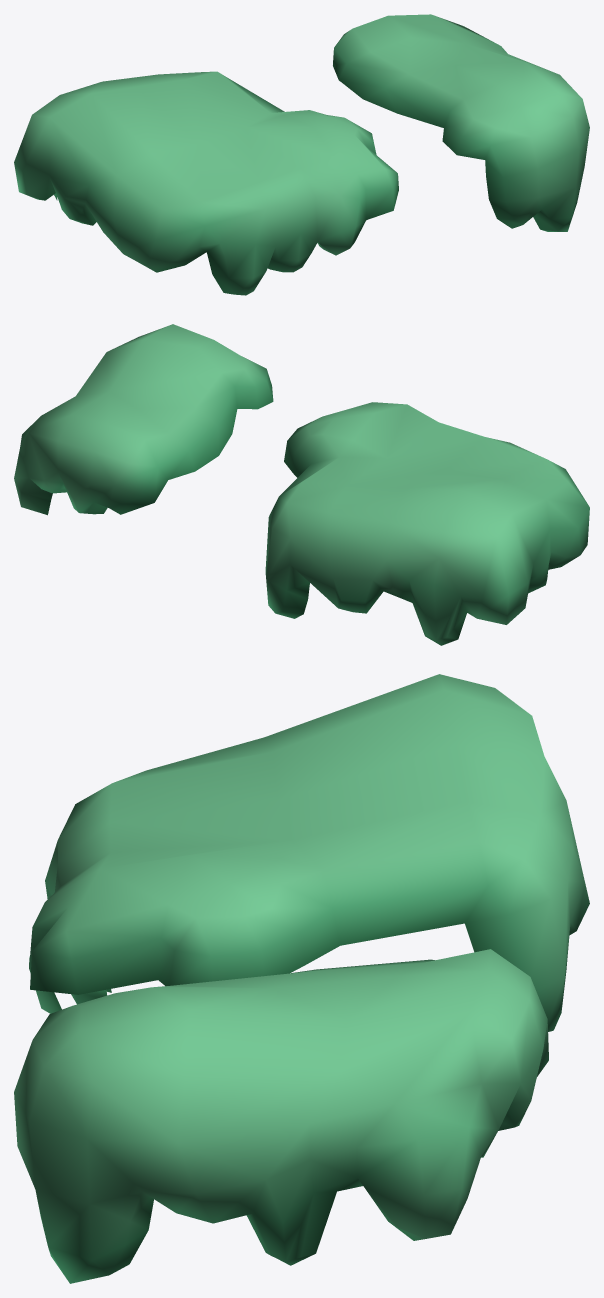
File: WaterRockBSeaweed.glb
3 views of the same model, one above another, from view 1: azimuth 30°, elevation 25°; view 2: azimuth 150°, elevation 25°; view 3: azimuth 270°, elevation 25° (orthographic). The views are drawn at different scales.
Parts seen in each view (by area): view 1: WaterRockBSeaweed; view 2: WaterRockBSeaweed; view 3: WaterRockBSeaweed.
Part boxes in pixels (left/top/right/bottom): WaterRockBSeaweed: left=14, top=14, right=589, bottom=295; WaterRockBSeaweed: left=14, top=324, right=589, bottom=645; WaterRockBSeaweed: left=14, top=674, right=589, bottom=1283.
Bounding box in the file's own units: 5.45 × 1.69 × 3.22.
